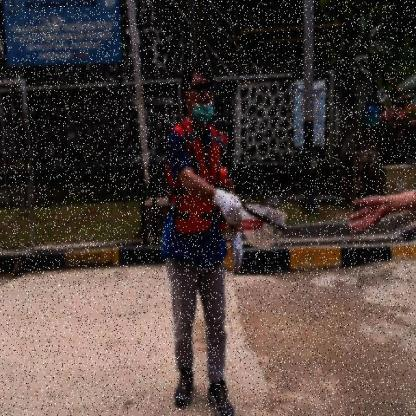boots: (205, 374, 236, 416), (172, 364, 196, 410)
gloves: (212, 184, 244, 230), (229, 229, 245, 275)
goggles: (192, 83, 216, 96)
helmet: (237, 201, 289, 250)
mask: (193, 103, 216, 124)
vest: (176, 166, 230, 234)
